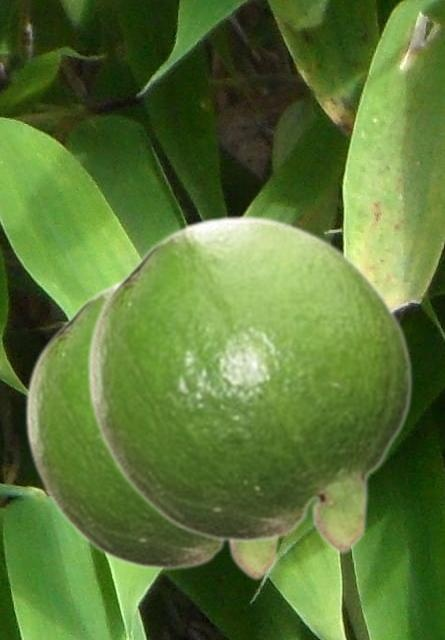guava: (85, 213, 412, 555), (23, 277, 281, 581)
